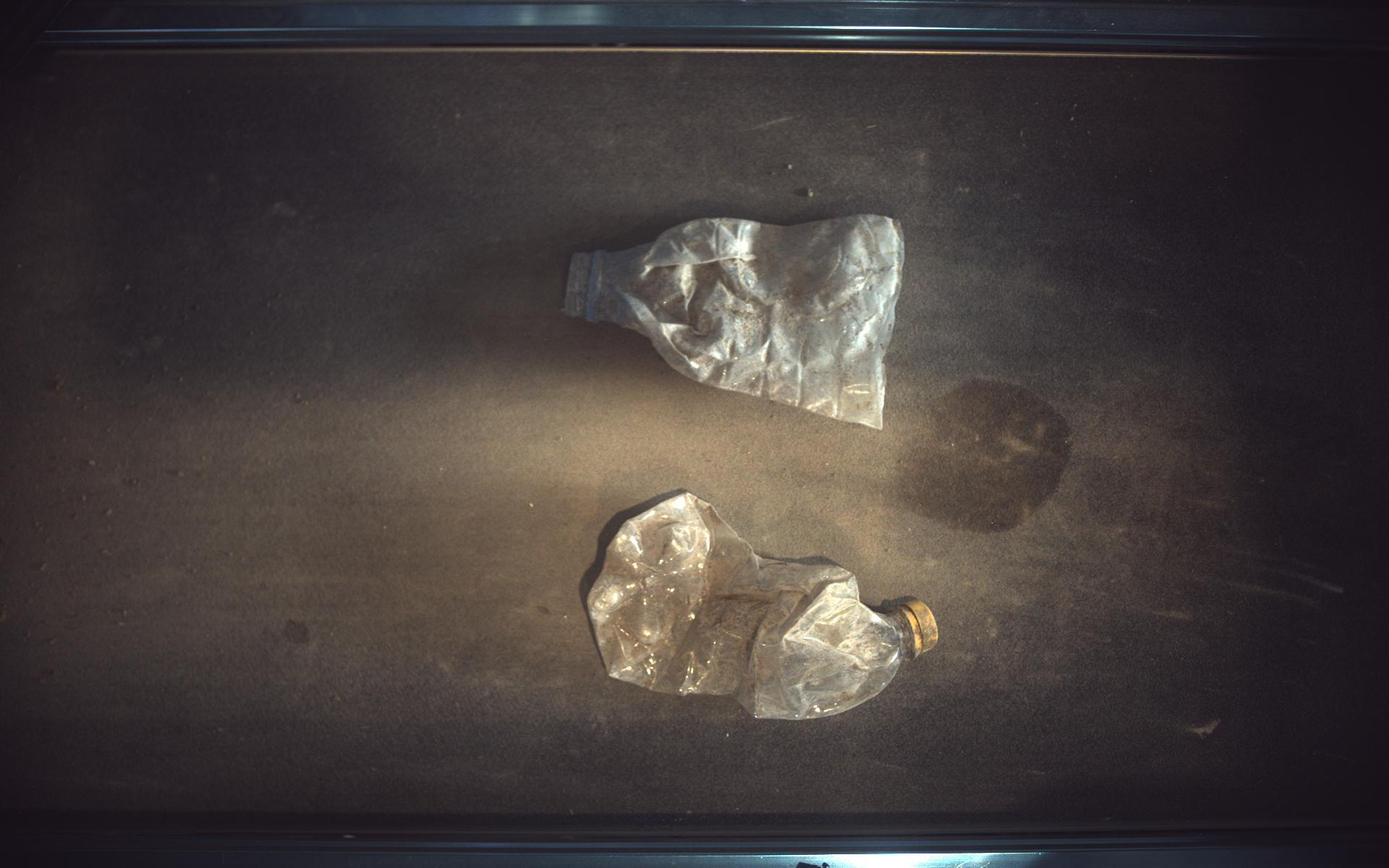general_w: (587, 491, 940, 720), (565, 213, 906, 429)
